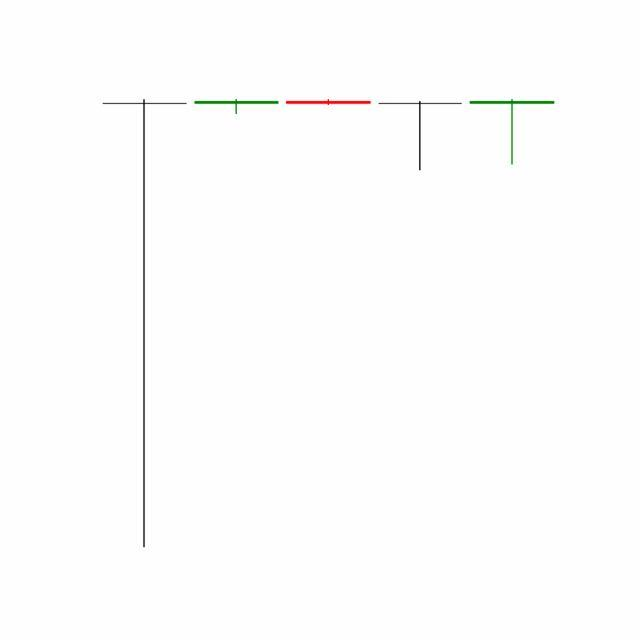Dragonfly Doji: (374, 101, 468, 172)
